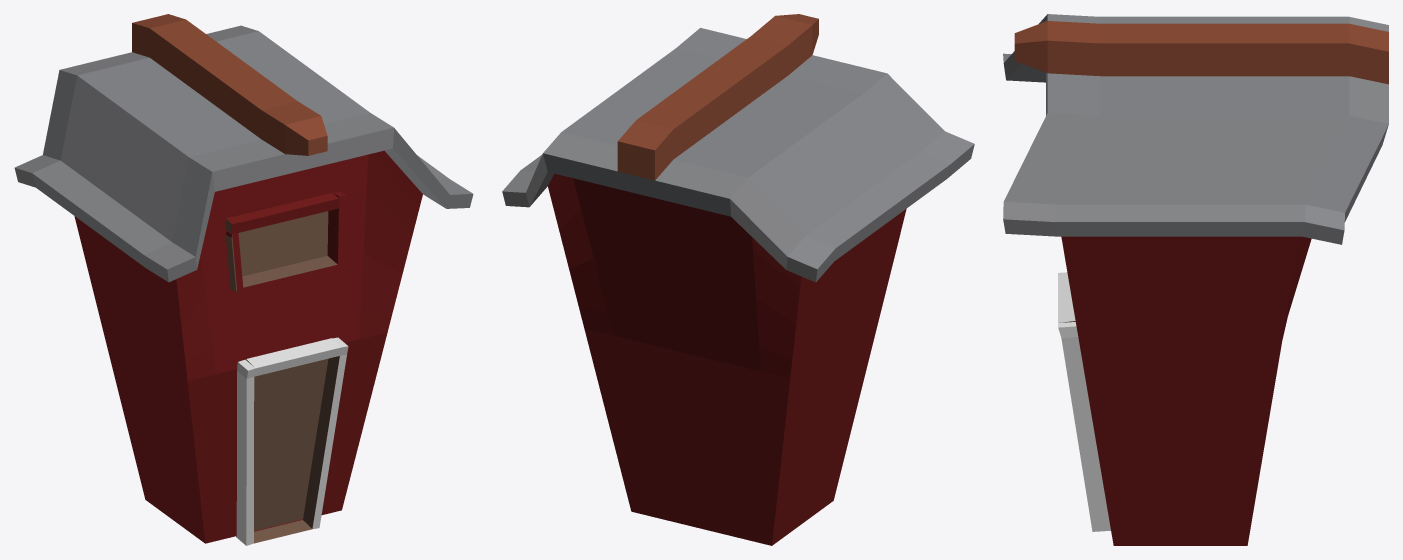
The model's file is BarnHouseMesh.fbx.
3 renders of one model, left to right at view 1: azimuth 30°, elevation 25°; view 2: azimuth 150°, elevation 25°; view 3: azimuth 270°, elevation 25°, orthographic. The views are drawn at different scales.
Visible parts, largest first — view 1: Cube; view 2: Cube; view 3: Cube.
Part boxes in pixels (x1,y1,x2,y2): Cube: (14,14,473,545); Cube: (502,14,974,545); Cube: (1003,14,1388,545).
Bounding box in the file's own units: 54.08 × 72.8 × 52.9.
